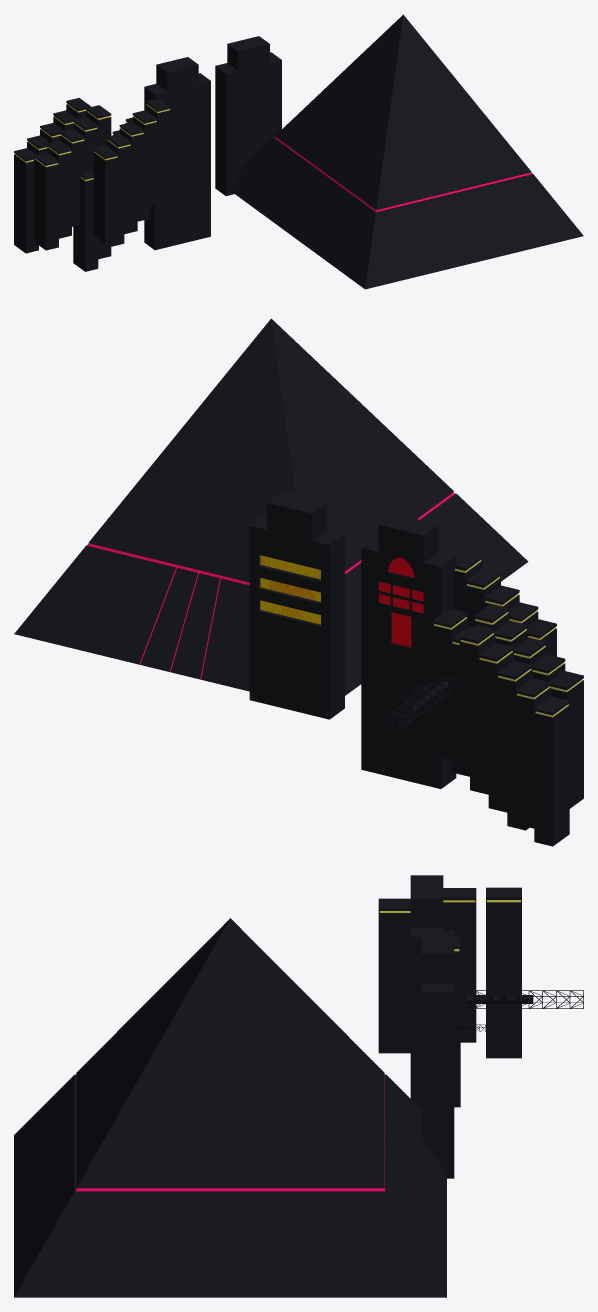
Rendered from test_decor_2.fbx.
3 views of the same model, one above another, from view 1: azimuth 30°, elevation 25°; view 2: azimuth 150°, elevation 25°; view 3: azimuth 270°, elevation 25° (orthographic). The views are drawn at different scales.
Visible parts, largest first — view 1: Cone.002, Cube.045, Cube.065, Cube.066, Cube.039; view 2: Cone.002, Cube.039, Cube.065, Cube.066, Cube.045, Cube.069; view 3: Cone.002, Cube.045, Cube.066, Cube.039, Cube.065, Cube.069, Cylinder.001.
Boxes of the visible parts, x1=… form: Cone.002: x1=231, y1=14, x2=583, y2=289; Cube.045: x1=34, y1=99, x2=170, y2=250; Cube.065: x1=144, y1=57, x2=210, y2=250; Cube.066: x1=215, y1=36, x2=281, y2=195; Cube.039: x1=14, y1=98, x2=150, y2=271; Cone.002: x1=14, y1=318, x2=528, y2=695; Cube.039: x1=432, y1=608, x2=569, y2=846; Cube.065: x1=361, y1=513, x2=456, y2=788; Cube.066: x1=249, y1=491, x2=344, y2=719; Cube.045: x1=454, y1=552, x2=583, y2=808; Cube.069: x1=385, y1=675, x2=454, y2=732; Cone.002: x1=14, y1=918, x2=446, y2=1297; Cube.045: x1=378, y1=888, x2=476, y2=1053; Cube.066: x1=421, y1=930, x2=454, y2=1178; Cube.039: x1=454, y1=887, x2=521, y2=1107; Cube.065: x1=410, y1=875, x2=443, y2=1109; Cube.069: x1=460, y1=990, x2=583, y2=1008; Cylinder.001: x1=467, y1=994, x2=533, y2=1004.
Bounding box in the file's own units: 13345 × 7662 × 10752.
